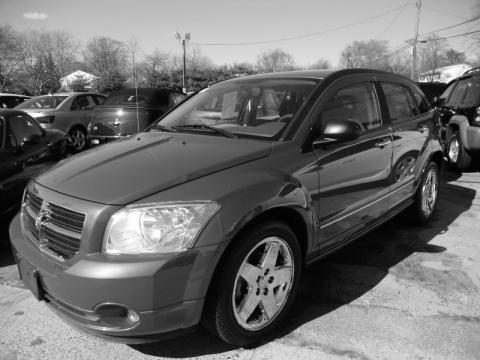car: (9, 71, 446, 345)
